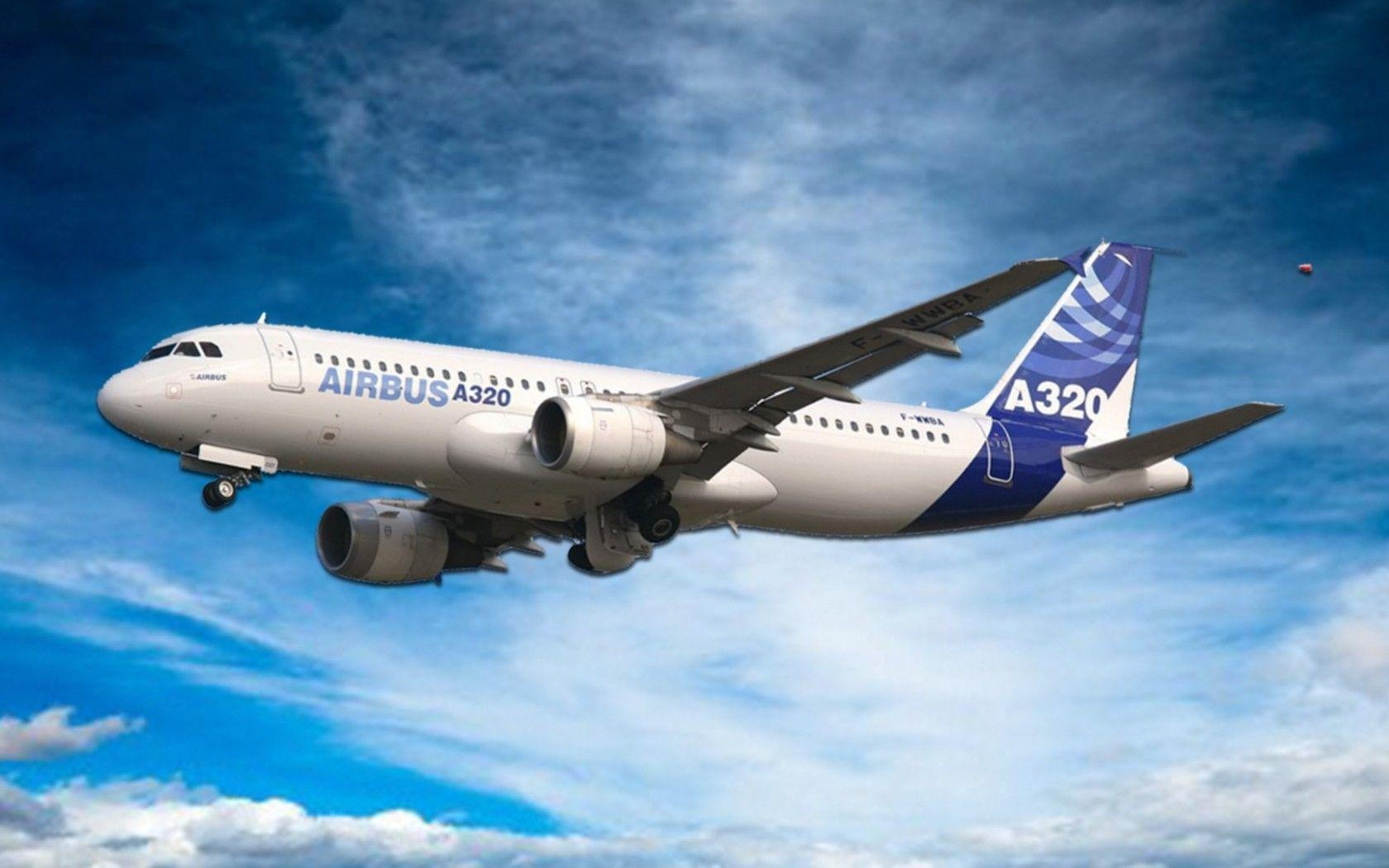aircraft: (124, 239, 1281, 593)
